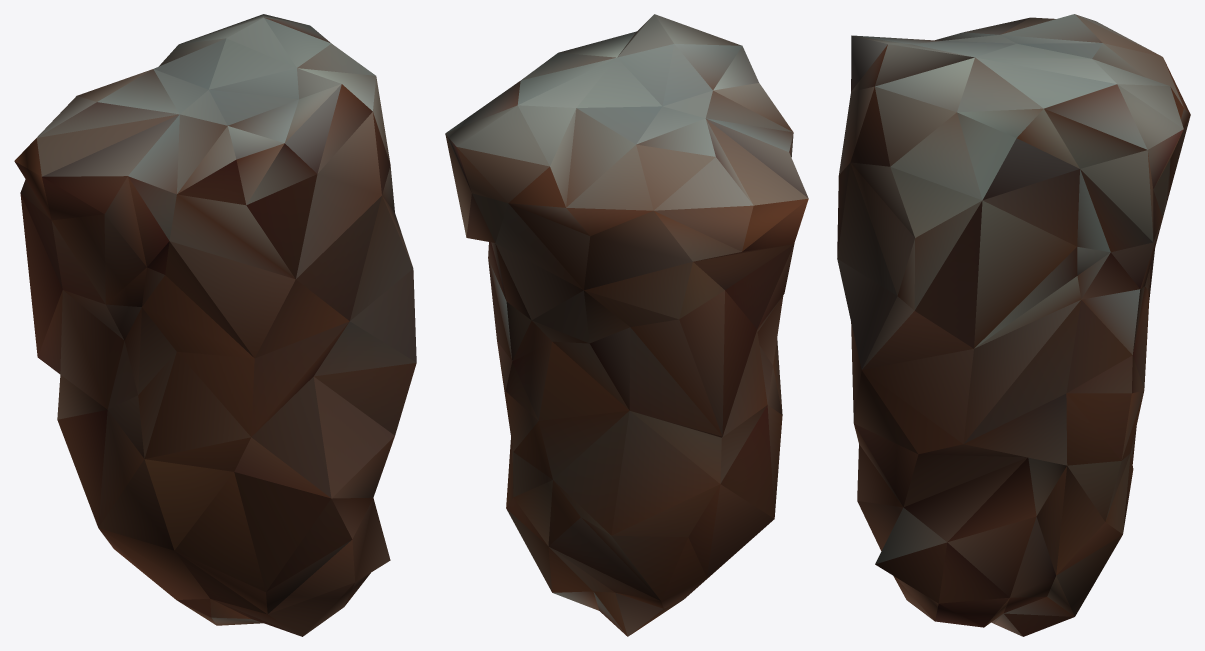
File: CliffRockA8B_LOD2.fbx
The picture shows the model from 3 angles, left to right: view 1: azimuth 30°, elevation 25°; view 2: azimuth 150°, elevation 25°; view 3: azimuth 270°, elevation 25°; orthographic projection. The views are drawn at different scales.
Parts seen in each view (by area): view 1: CliffRockA8B_LOD2; view 2: CliffRockA8B_LOD2; view 3: CliffRockA8B_LOD2.
Part boxes in pixels (x1,y1,x2,y2): CliffRockA8B_LOD2: (14,14,416,636); CliffRockA8B_LOD2: (445,14,808,636); CliffRockA8B_LOD2: (837,14,1190,636).
Bounding box in the file's own units: 25.78 × 44.41 × 23.48.
